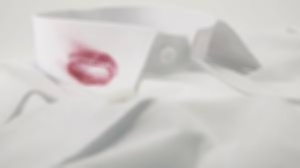lipstick: (69, 49, 120, 83)
